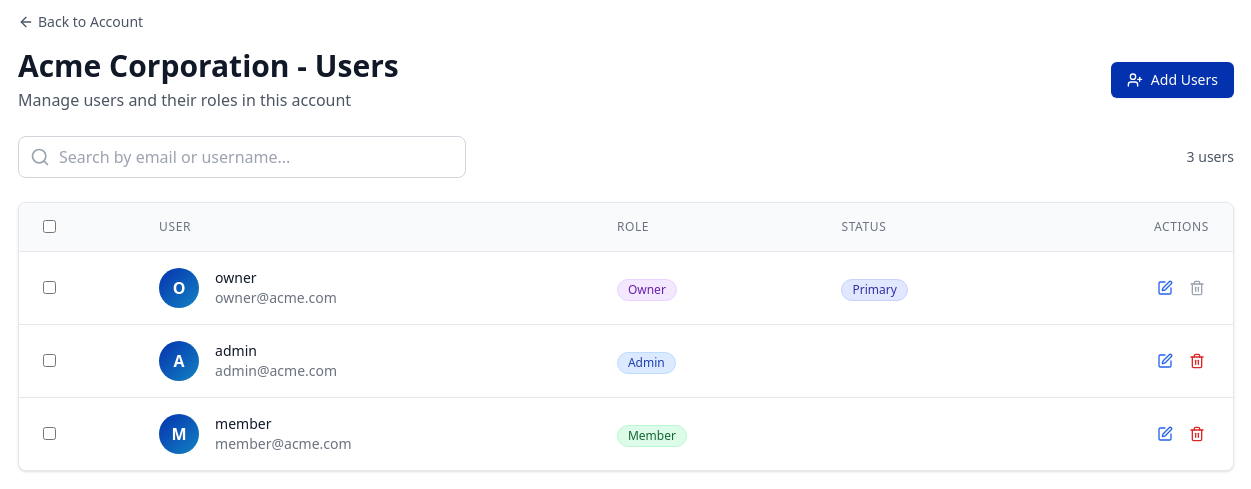
Scenario: AccountUserManager › should filter users by search
The width and height of the screenshot is (1251, 489).
Expected: the text "owner@acme.com" is shown, [215, 288, 337, 308]
Type "admin" into the field with placeholder "Search by email or username...". click: (242,157)
box: [18, 136, 466, 178]
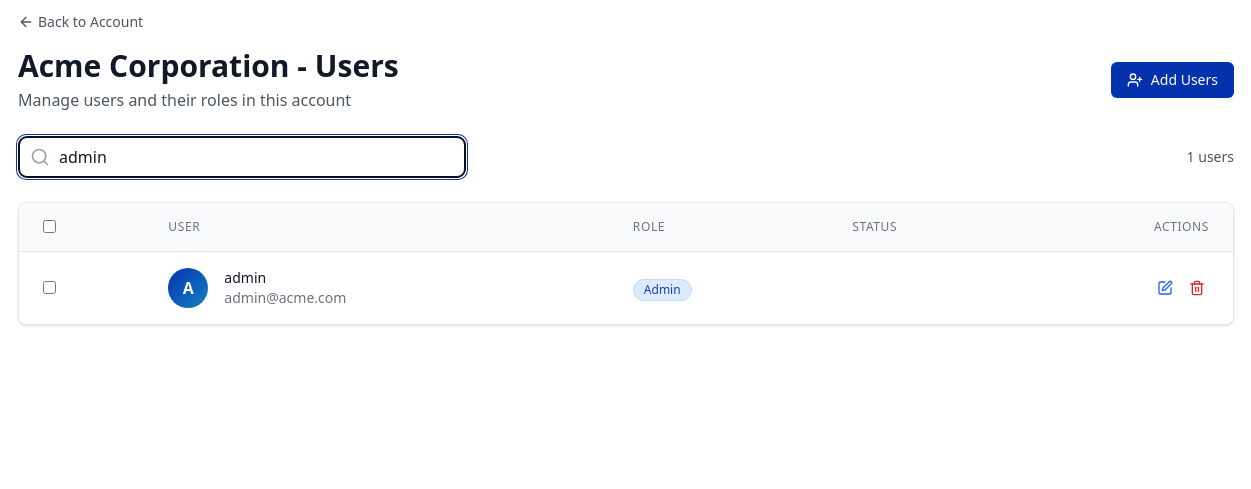
Expected: the text "admin@acme.com" is shown, [224, 288, 346, 308]
Result: the text "member@acme.com" is gone
